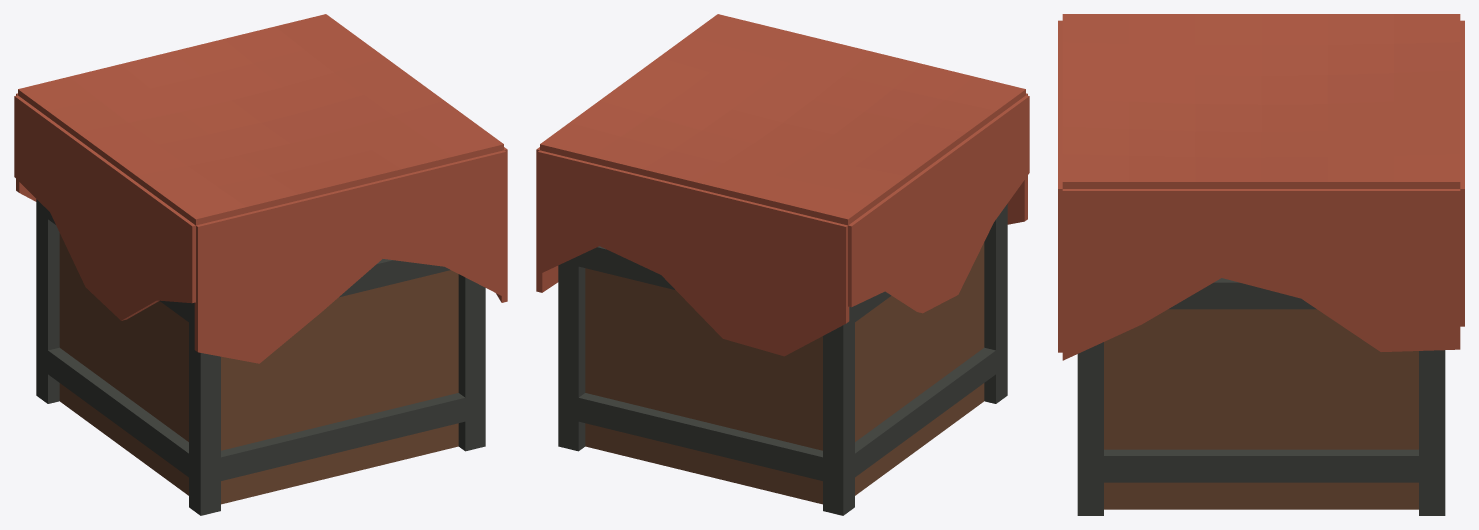
Rendered from tarp_crate.glb.
3 views of the same model, side by side, from view 1: azimuth 30°, elevation 25°; view 2: azimuth 150°, elevation 25°; view 3: azimuth 270°, elevation 25° (orthographic). The views are drawn at different scales.
Parts seen in each view (by area): view 1: tarp_crate; view 2: tarp_crate; view 3: tarp_crate.
Boxes of the visible parts, x1,y1,x2,y2 form: tarp_crate: (14, 14, 507, 515); tarp_crate: (536, 14, 1029, 515); tarp_crate: (1058, 14, 1464, 515).
Bounding box in the file's own units: 1.08 × 1 × 1.08.
